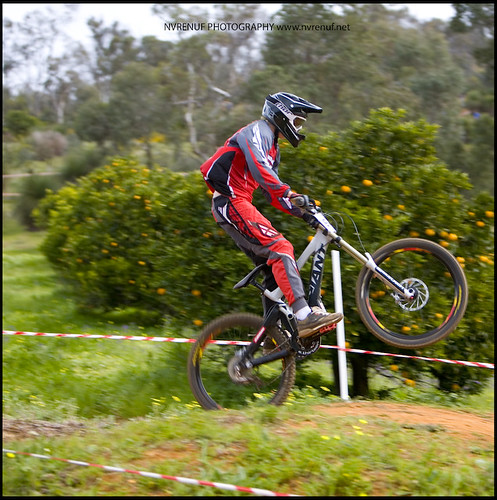helmet: (260, 79, 309, 143)
